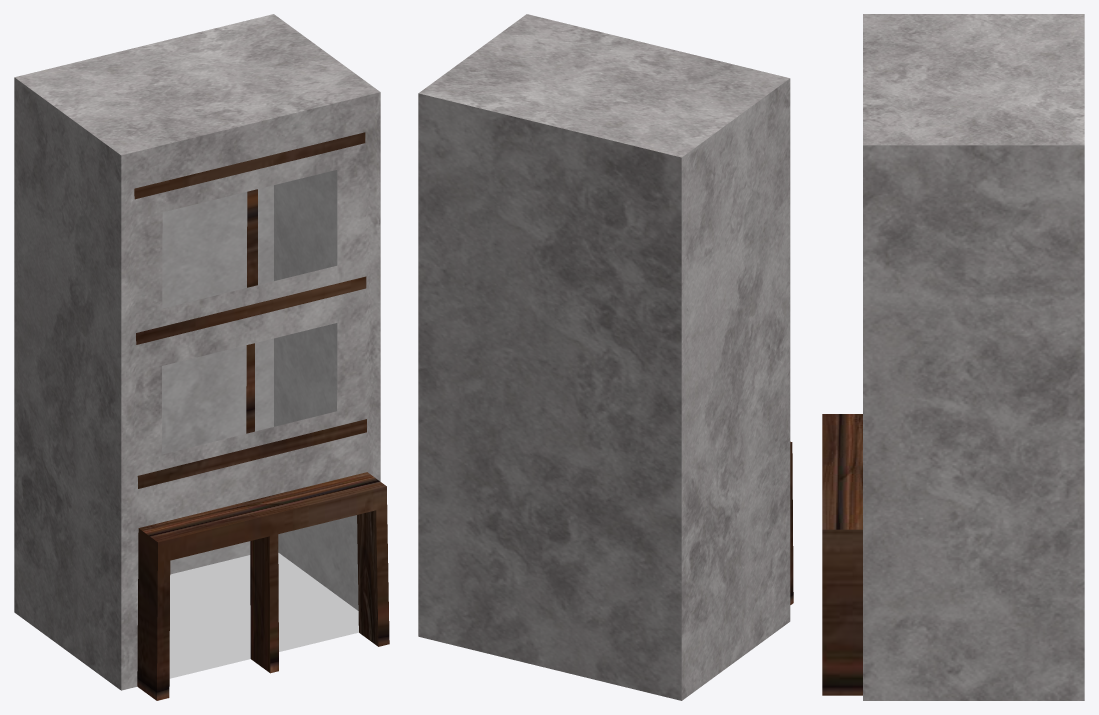
The model's file is bill.fbx.
3 views of the same model, side by side, from view 1: azimuth 30°, elevation 25°; view 2: azimuth 150°, elevation 25°; view 3: azimuth 270°, elevation 25° (orthographic). The views are drawn at different scales.
Visible parts, largest first — view 1: bill_bill_bill_pCube1; view 2: bill_bill_bill_pCube1; view 3: bill_bill_bill_pCube1.
Boxes of the visible parts, x1=… form: bill_bill_bill_pCube1: x1=14, y1=14, x2=389, y2=700; bill_bill_bill_pCube1: x1=418, y1=14, x2=793, y2=700; bill_bill_bill_pCube1: x1=822, y1=14, x2=1084, y2=700.
Size of the model in its own units: 6.1 by 12.02 by 5.14.
3 materials, 2 textured.
